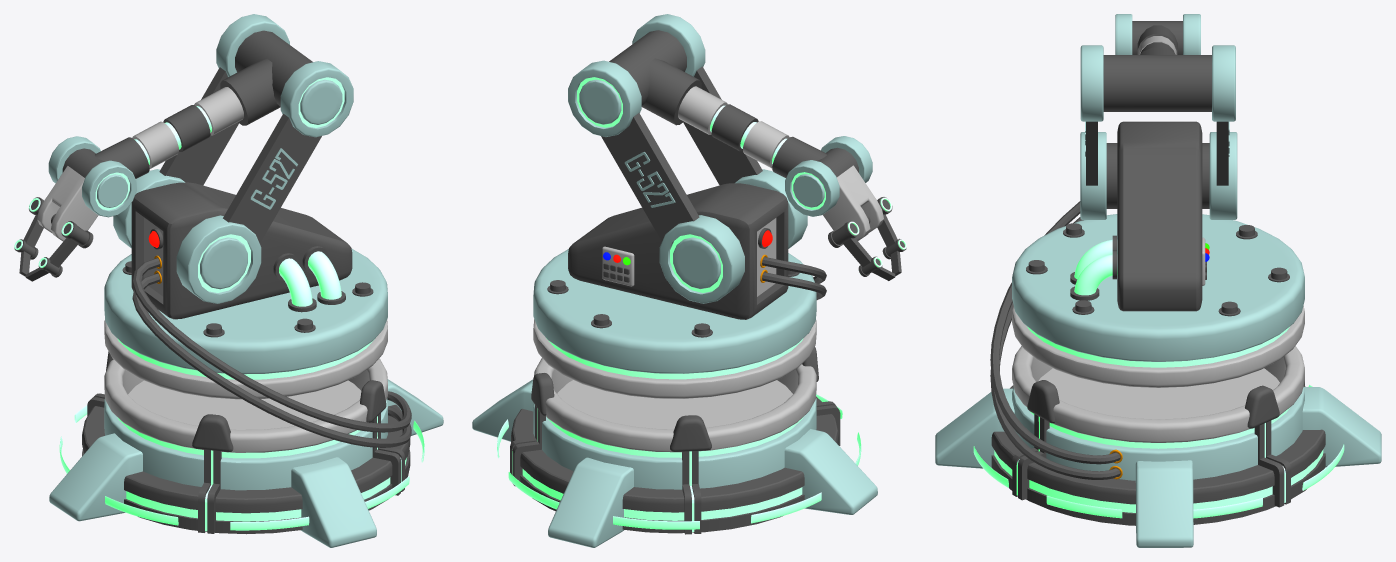
File: PinceV2.fbx
The picture shows the model from 3 angles, left to right: view 1: azimuth 30°, elevation 25°; view 2: azimuth 150°, elevation 25°; view 3: azimuth 270°, elevation 25°; orthographic projection. The views are drawn at different scales.
Parts seen in each view (by area): view 1: Cylinder.016; view 2: Cylinder.016; view 3: Cylinder.016.
Boxes of the visible parts, box(x1,y1,x2,y2) form: Cylinder.016: box(14, 14, 443, 547); Cylinder.016: box(472, 14, 906, 547); Cylinder.016: box(935, 14, 1381, 547).
Bounding box in the file's own units: 312 × 301 × 284.
